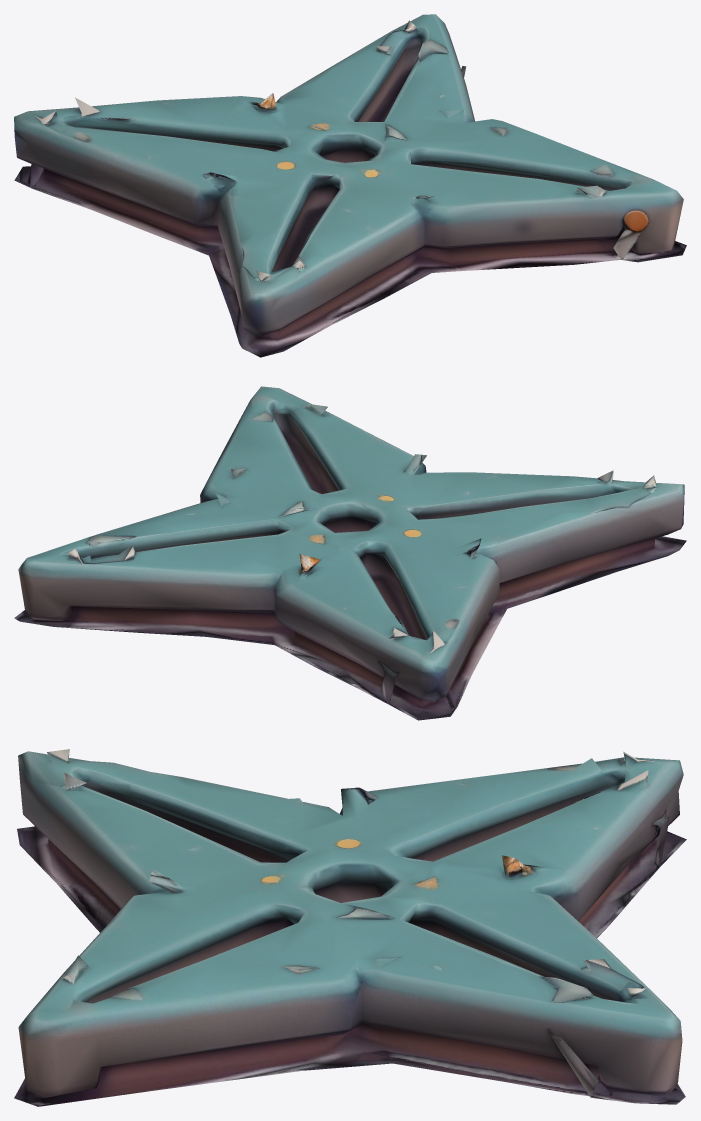
Rendered from weapon_shuriken_1500.glb.
The picture shows the model from 3 angles, top to bottom: view 1: azimuth 30°, elevation 25°; view 2: azimuth 150°, elevation 25°; view 3: azimuth 270°, elevation 25°; orthographic projection. The views are drawn at different scales.
Visible parts, largest first — view 1: tripo_node_33cf4b85-21e0-4c5a-8193-07470a32d685; view 2: tripo_node_33cf4b85-21e0-4c5a-8193-07470a32d685; view 3: tripo_node_33cf4b85-21e0-4c5a-8193-07470a32d685.
Part boxes in pixels (x1,y1,x2,y2): tripo_node_33cf4b85-21e0-4c5a-8193-07470a32d685: (14, 14, 686, 357); tripo_node_33cf4b85-21e0-4c5a-8193-07470a32d685: (14, 386, 686, 720); tripo_node_33cf4b85-21e0-4c5a-8193-07470a32d685: (14, 749, 686, 1106).
Size of the model in its own units: 0.979 by 0.1673 by 0.9834.
Materials: 1 (1 with a texture image).
